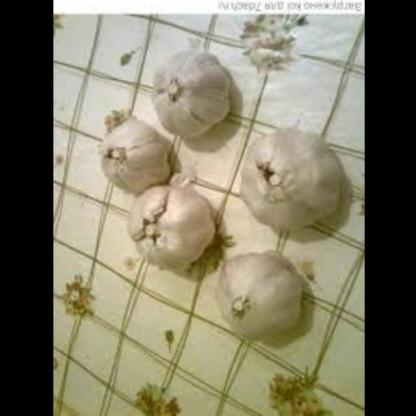garlic: (239, 124, 348, 239), (210, 253, 303, 350), (144, 46, 238, 141), (123, 178, 214, 269), (95, 117, 172, 200)
